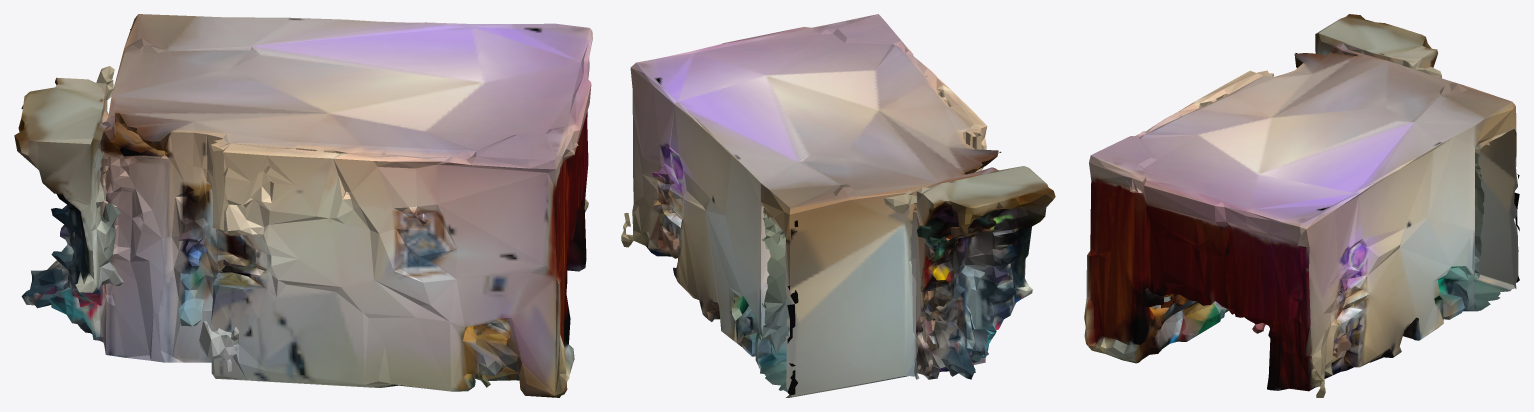
The model's file is NAOMI_house-parents-scan.glb.
3 renders of one model, left to right at view 1: azimuth 30°, elevation 25°; view 2: azimuth 150°, elevation 25°; view 3: azimuth 270°, elevation 25°, orthographic. The views are drawn at different scales.
Visible parts, largest first — view 1: bedroom.003; view 2: bedroom.003; view 3: bedroom.003.
Part boxes in pixels (box(x1,y1,x2,y2)): bedroom.003: box(14, 14, 592, 397); bedroom.003: box(621, 14, 1055, 397); bedroom.003: box(1084, 14, 1519, 397).
Bounding box in the file's own units: 11.69 × 4.97 × 10.
1 material, 1 textured.
